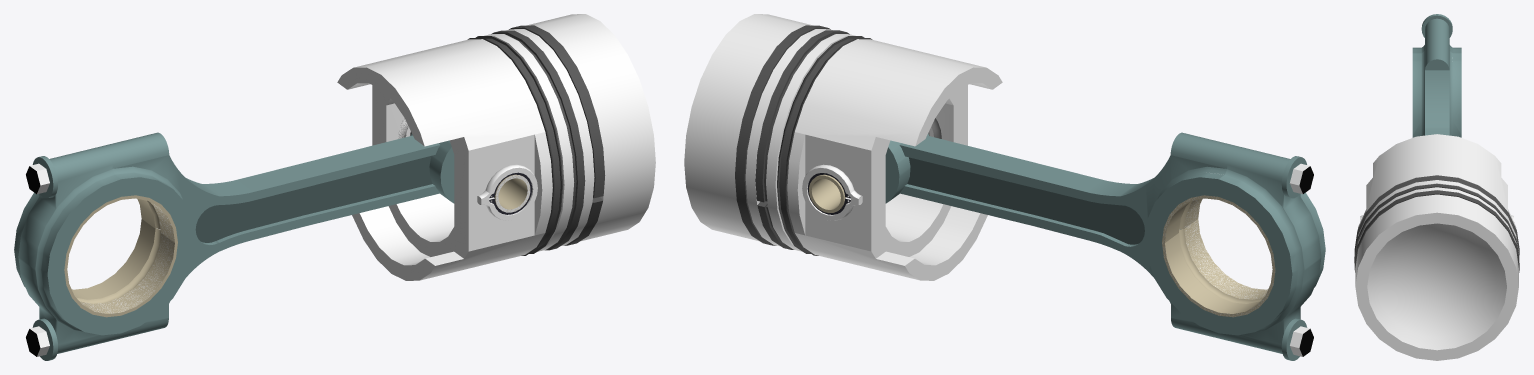
The picture shows the model from 3 angles, left to right: view 1: azimuth 30°, elevation 25°; view 2: azimuth 150°, elevation 25°; view 3: azimuth 270°, elevation 25°; orthographic projection. The views are drawn at different scales.
Visible parts, largest first — view 1: Component_1 (×12), mid_section (×2), Middle_ring, top_ring; view 2: Component_1 (×12), mid_section (×2), top_ring, Middle_ring; view 3: Component_1 (×6), mid_section (×2), top_ring, Middle_ring.
Boxes of the visible parts, x1,y1,x2,y2 form: Component_1 (×12): (14,14,655,360); mid_section (×2): (484,29,594,251); Middle_ring: (491,30,585,250); top_ring: (509,25,605,245); Component_1 (×12): (684,14,1325,360); mid_section (×2): (745,29,855,251); top_ring: (735,25,830,245); Middle_ring: (755,30,849,249); Component_1 (×6): (1354,14,1519,360); mid_section (×2): (1358,180,1518,253); top_ring: (1354,190,1519,272); Middle_ring: (1354,183,1519,262).
Bounding box in the file's own units: 234 × 79.7 × 79.53.
